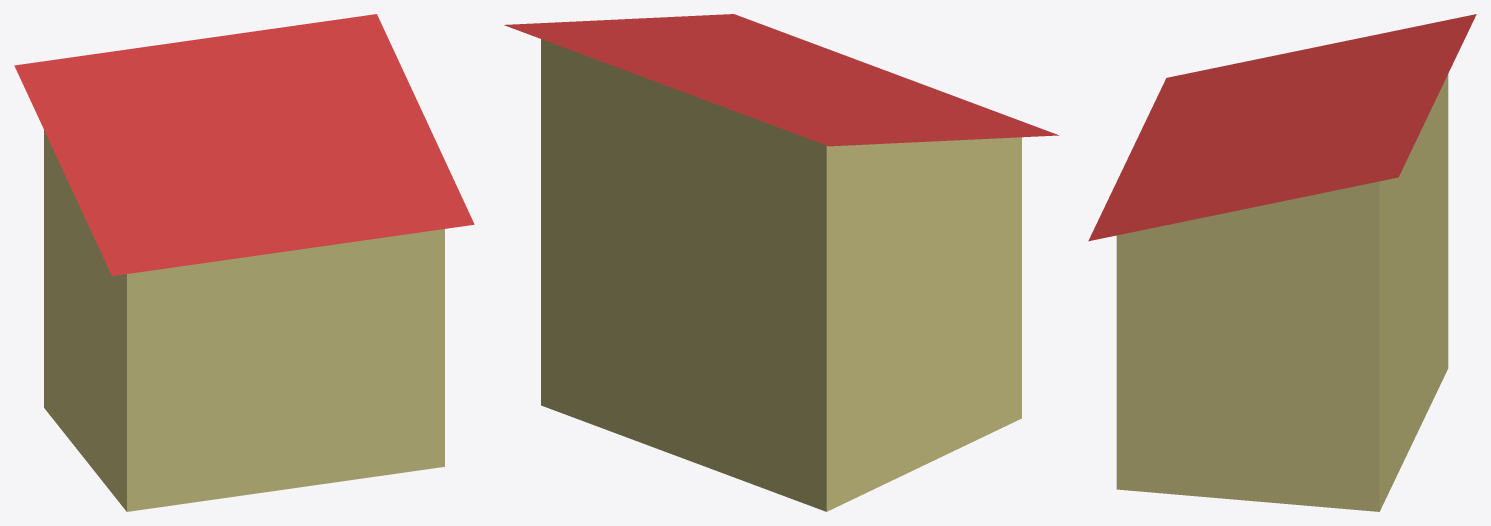
3 renders of one model, left to right at view 1: azimuth 30°, elevation 25°; view 2: azimuth 150°, elevation 25°; view 3: azimuth 270°, elevation 25°, orthographic. The views are drawn at different scales.
Bounding box in the file's own units: 9.25 × 8 × 7.87.
